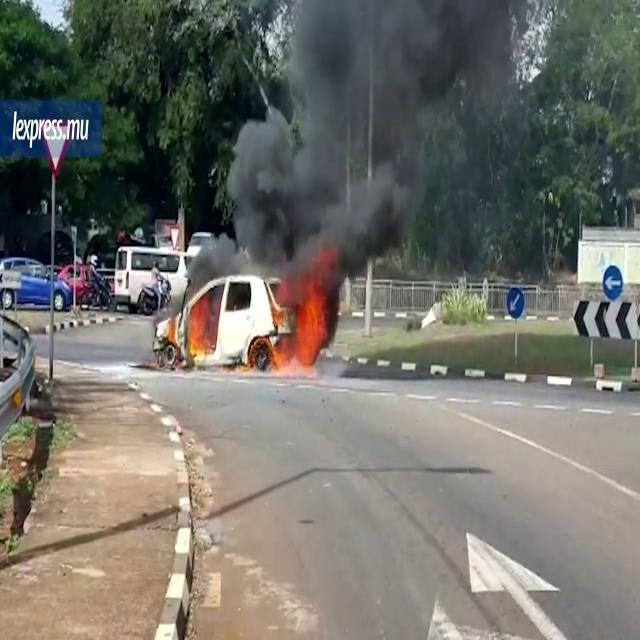Fire: (270, 279, 332, 377), (171, 286, 221, 366)
Smoke: (217, 1, 558, 290)
